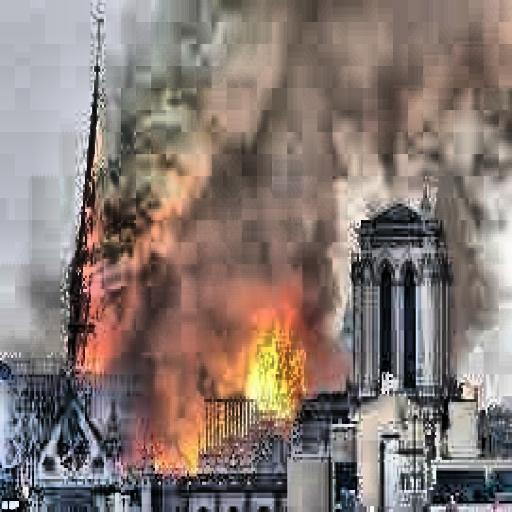fire: (234, 286, 316, 427)
